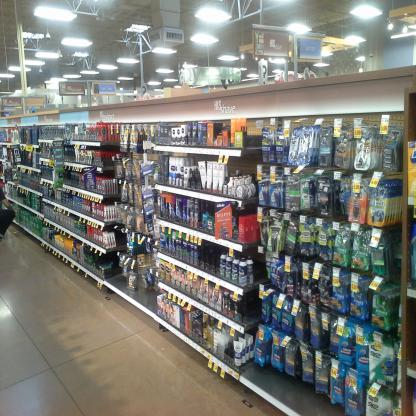Void: (247, 124, 264, 151), (408, 300, 415, 364), (228, 159, 256, 175), (252, 244, 265, 278), (204, 243, 219, 272), (245, 294, 258, 321)
